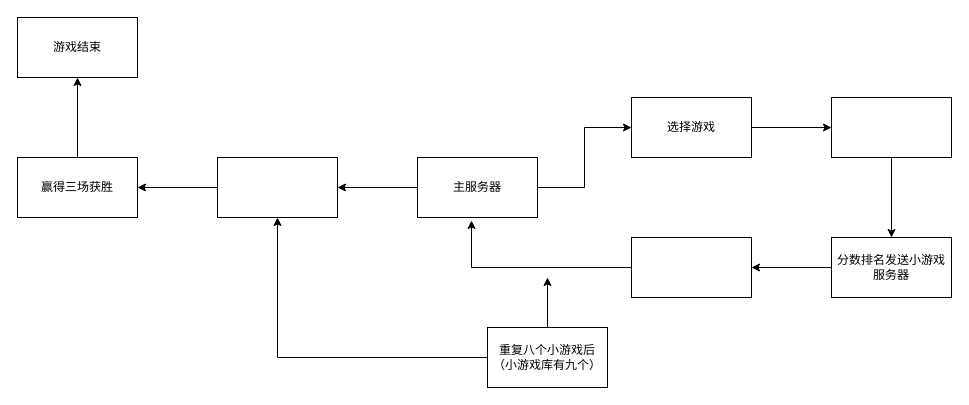
The diagram is 969 pixels wide and 405 high, and some of its shapes have lost their labels. The shapes that lost their labels are listed below. From the top down, each one's centre as x and y in pixels, then its label:
At (x=891, y=127): "传送小游戏服务器".
At (x=277, y=187): "总分数排名第一第二进入躲避箭".
At (x=691, y=267): "游戏结束后将总分数和排名发回服务器".
